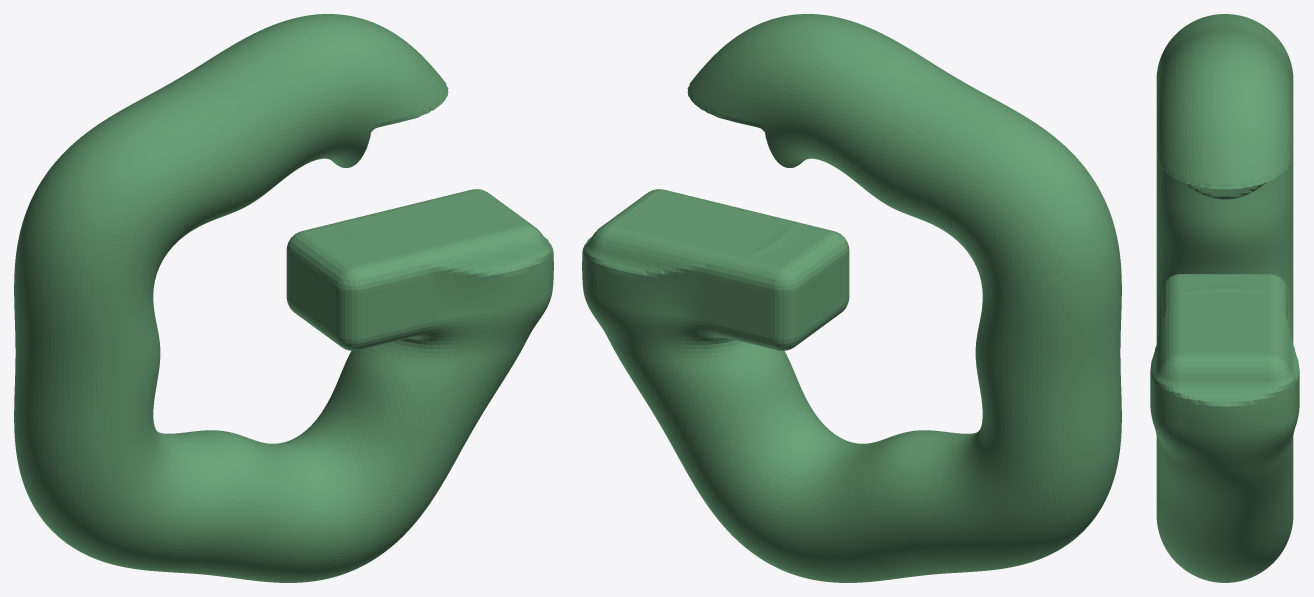
The model's file is gator-g.glb.
The picture shows the model from 3 angles, left to right: view 1: azimuth 30°, elevation 25°; view 2: azimuth 150°, elevation 25°; view 3: azimuth 270°, elevation 25°; orthographic projection. The views are drawn at different scales.
Parts seen in each view (by area): view 1: Gator_G; view 2: Gator_G; view 3: Gator_G.
Boxes of the visible parts, x1,y1,x2,y2 form: Gator_G: (14, 14, 553, 582); Gator_G: (582, 14, 1121, 582); Gator_G: (1150, 14, 1299, 582).
Size of the model in its own units: 2.55 by 2.6 by 0.6769.
